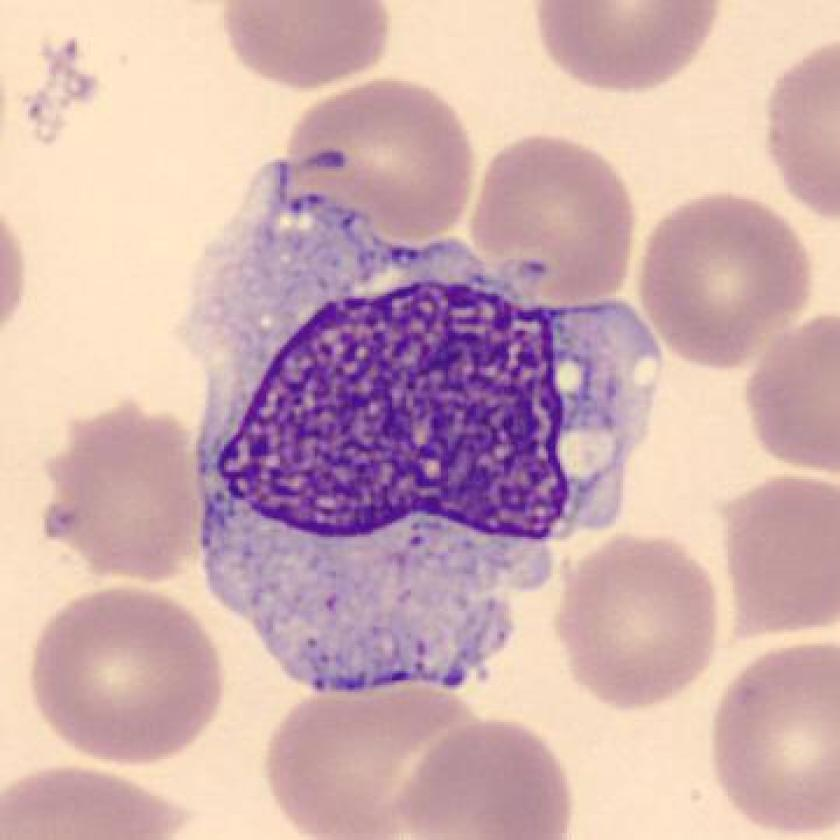monocyte: (172, 137, 683, 730)
